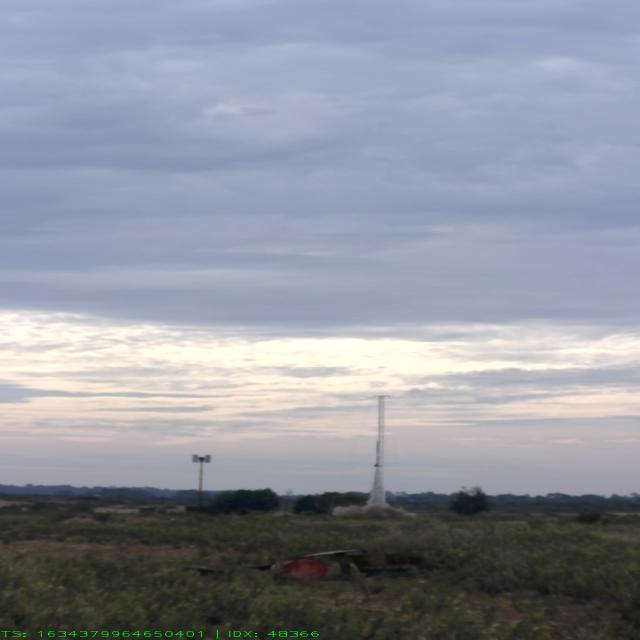Rocket: (373, 440, 383, 468)
